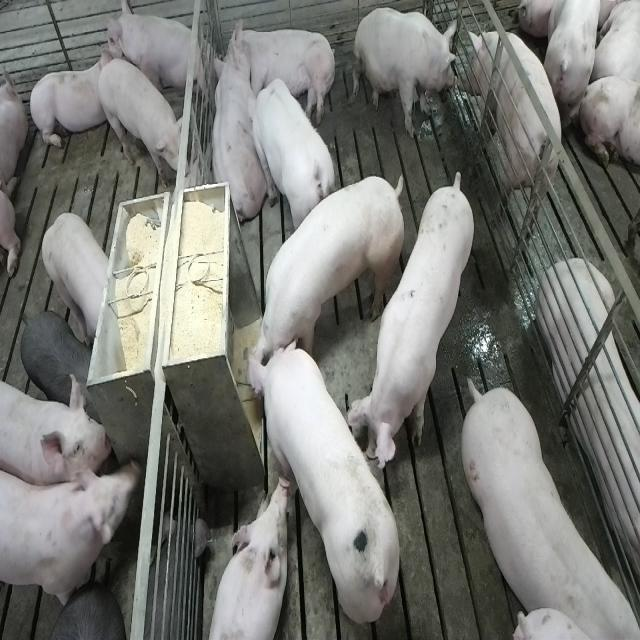Feeding: (246, 340, 402, 626)
Lateral_lying: (224, 16, 338, 130)
Sitting: (354, 8, 462, 140), (106, 0, 206, 99)
Standing: (456, 374, 634, 634), (353, 167, 478, 473), (252, 175, 408, 394), (2, 459, 141, 615), (462, 29, 562, 238), (250, 74, 336, 236), (0, 368, 108, 486), (98, 60, 186, 192), (42, 211, 112, 343), (20, 309, 96, 407), (34, 584, 125, 638)
Sternal_lying: (540, 260, 640, 596), (207, 480, 289, 640), (28, 49, 116, 154)
